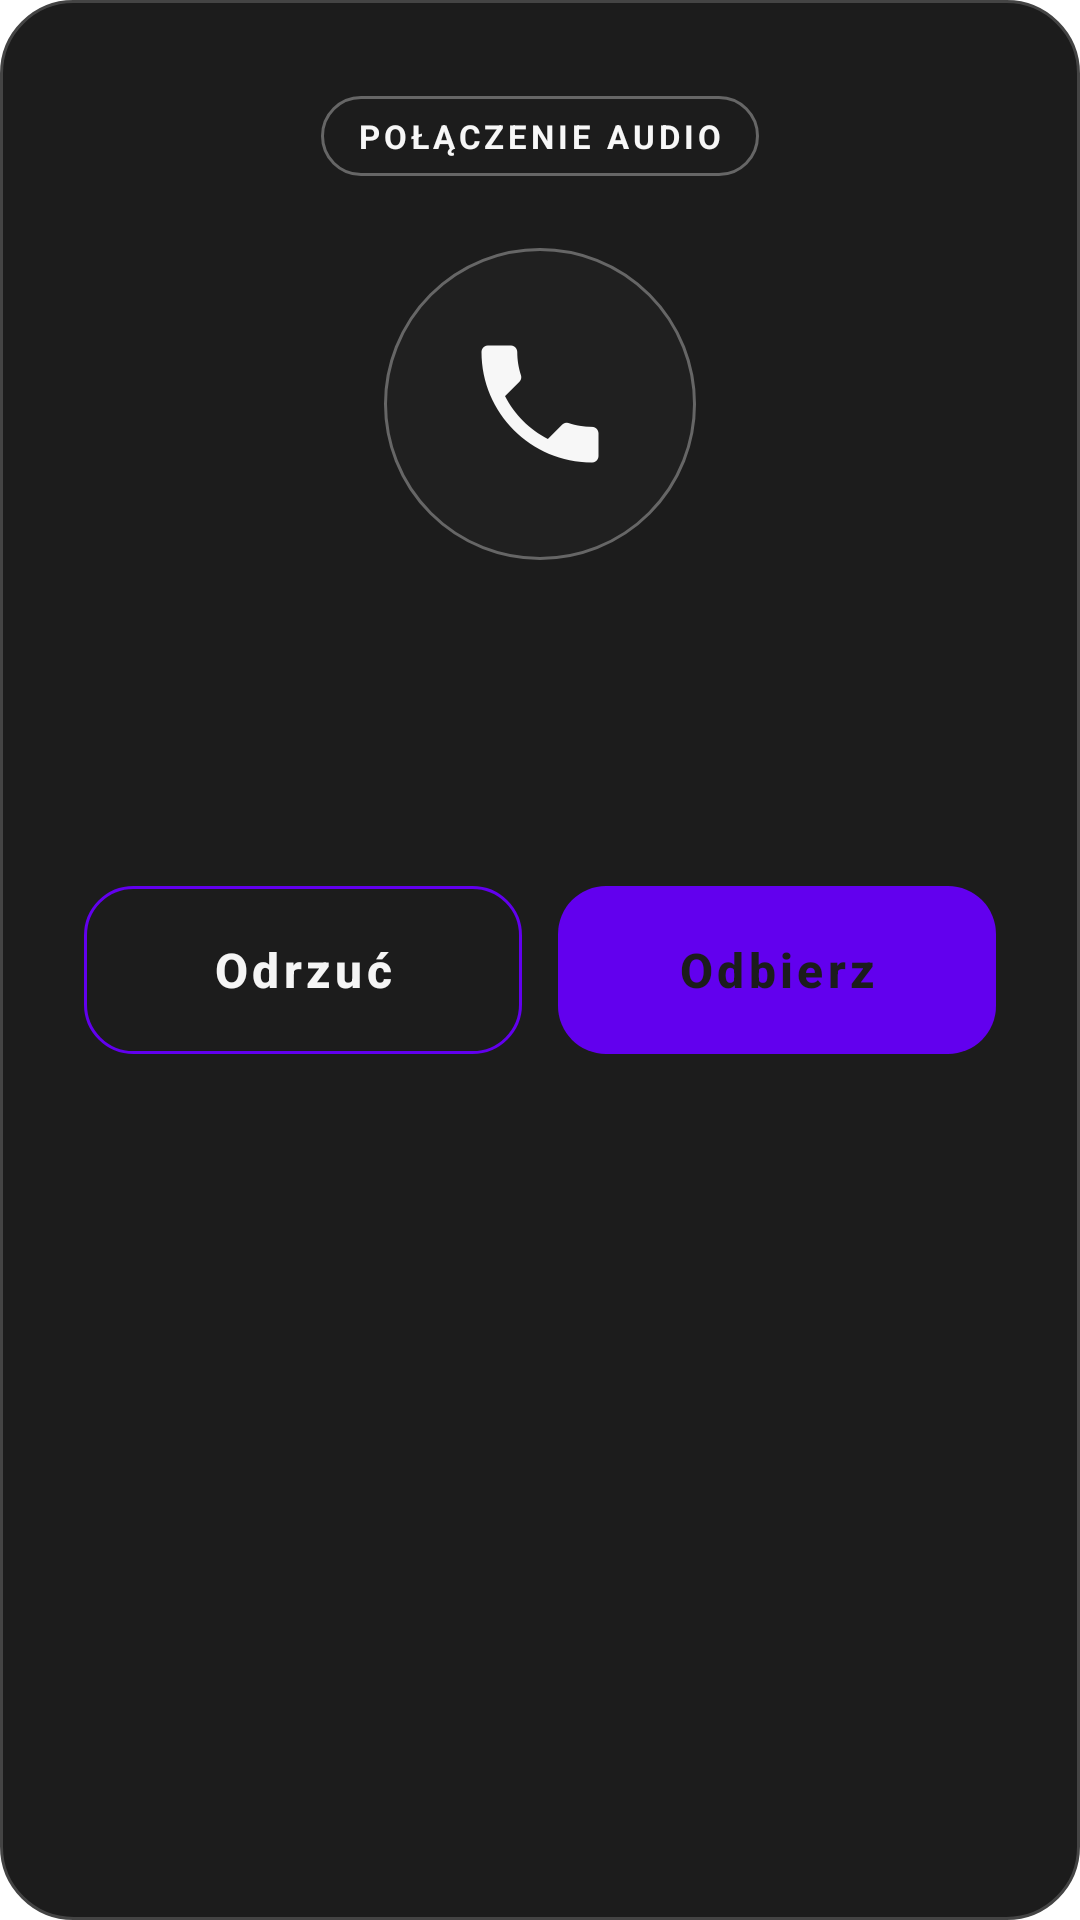

Icons on this 1080x1920 Android screen, each with the point to tap as (x=x, y=y):
call: (x=540, y=404)
